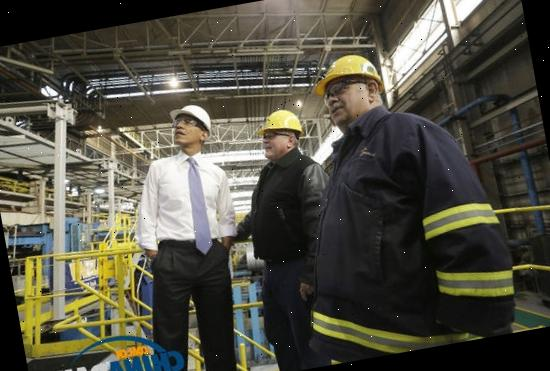helmet: (302, 46, 388, 97), (253, 104, 306, 140), (166, 99, 210, 127)
no_wear: (132, 145, 243, 256), (246, 151, 344, 267)
wear: (321, 102, 505, 358)
